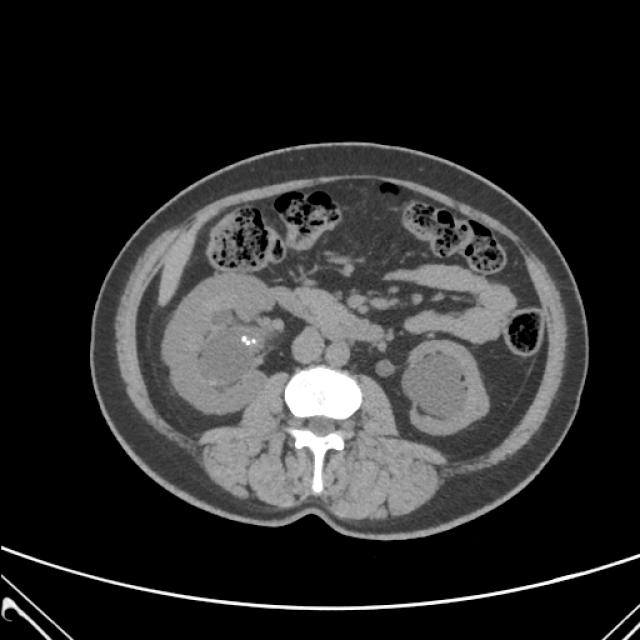kidney: (411, 357, 467, 420), (210, 328, 258, 384)
stone: (242, 337, 246, 342), (253, 338, 256, 344), (246, 341, 250, 345)
